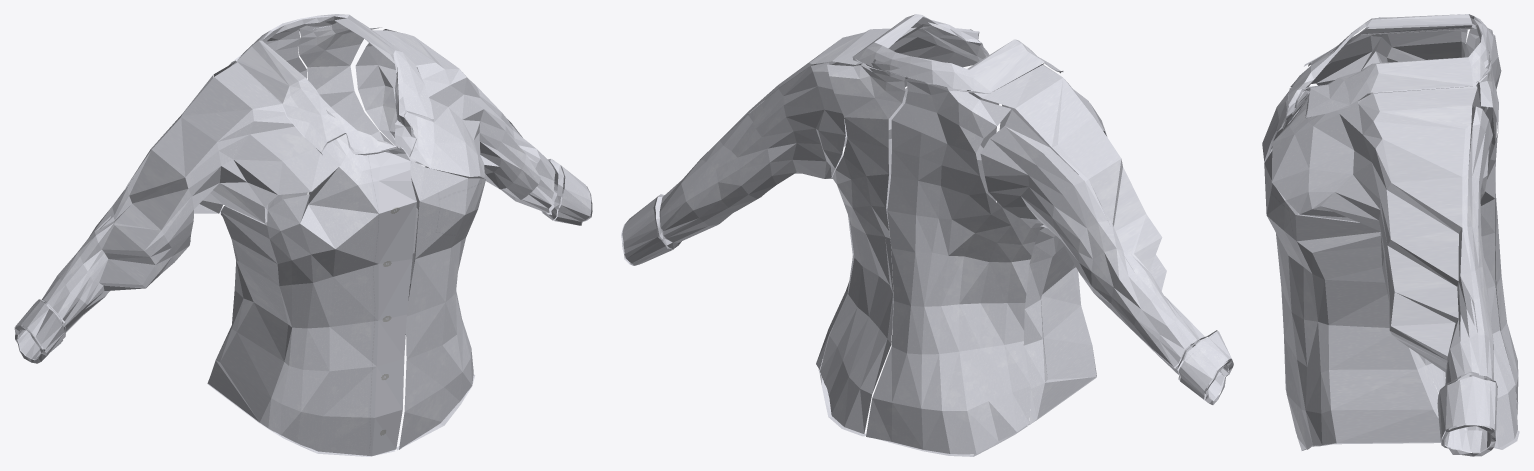
Rendered from shirt_v5.glb.
3 views of the same model, side by side, from view 1: azimuth 30°, elevation 25°; view 2: azimuth 150°, elevation 25°; view 3: azimuth 270°, elevation 25° (orthographic). The views are drawn at different scales.
Parts seen in each view (by area): view 1: Shirt_lo_M_cloth_0; view 2: Shirt_lo_M_cloth_0; view 3: Shirt_lo_M_cloth_0.
Part boxes in pixels (box(x1,y1,x2,y2)): Shirt_lo_M_cloth_0: box(14, 14, 592, 456); Shirt_lo_M_cloth_0: box(621, 14, 1233, 456); Shirt_lo_M_cloth_0: box(1262, 14, 1519, 456).
Size of the model in its own units: 908 by 569 by 333.
1 material, 1 textured.
